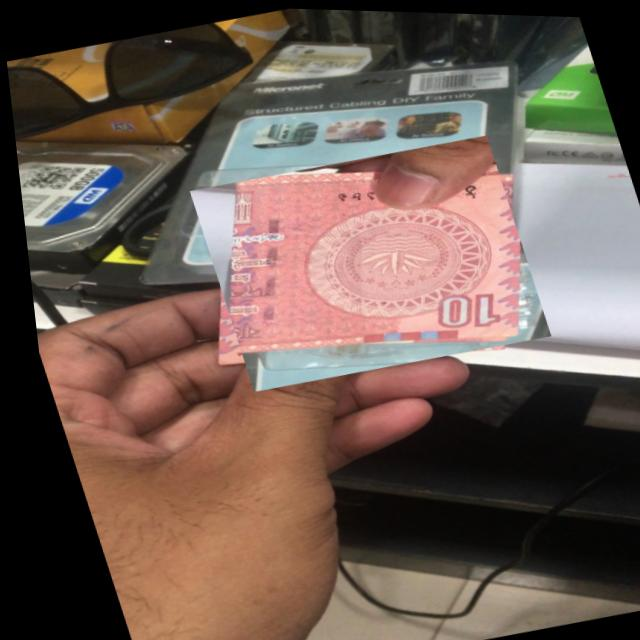Taka: (179, 125, 549, 397)
